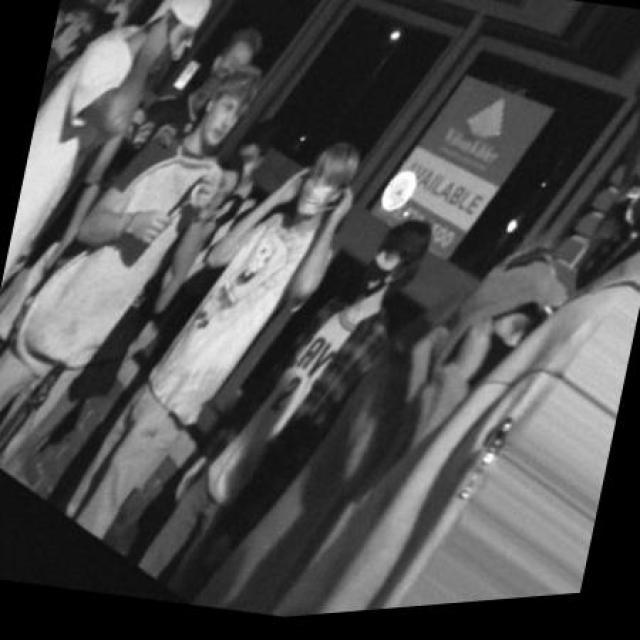hairnet: (144, 25, 193, 89)
